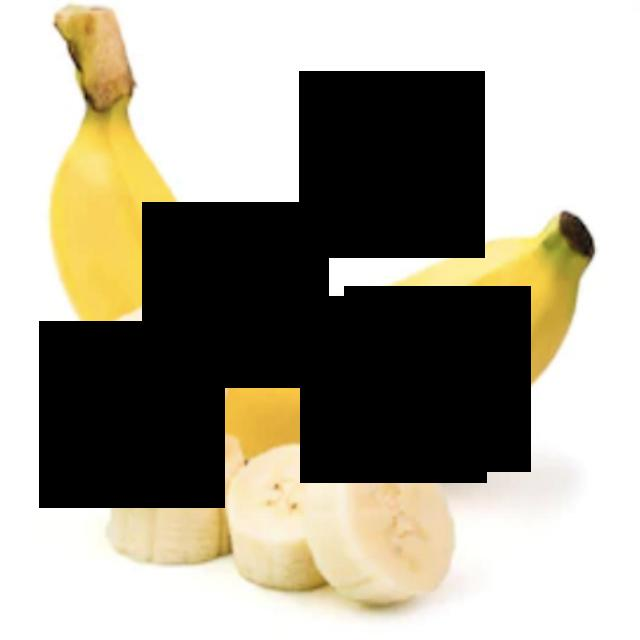banana: (29, 14, 606, 478)
